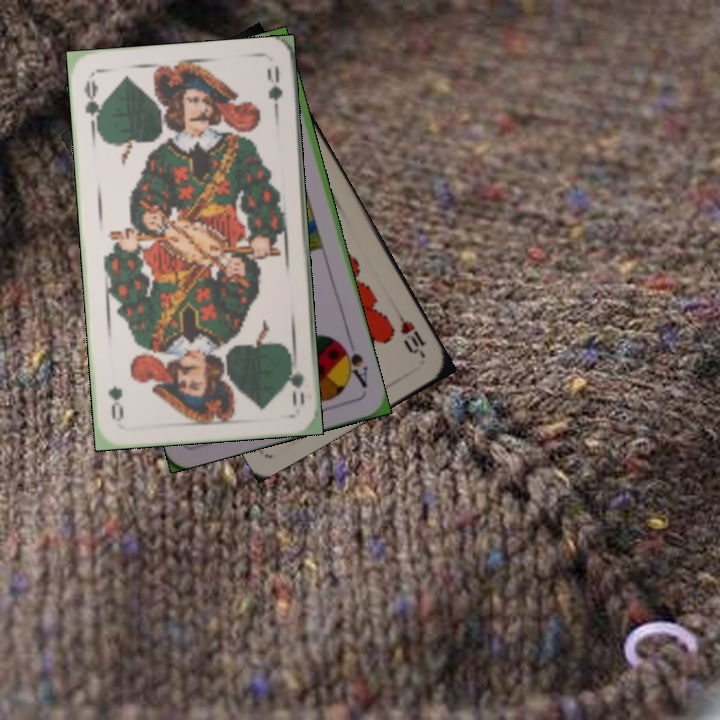GO: (283, 350, 307, 409), (80, 75, 104, 134)
H10: (390, 306, 428, 360)
SA: (335, 335, 371, 391)
